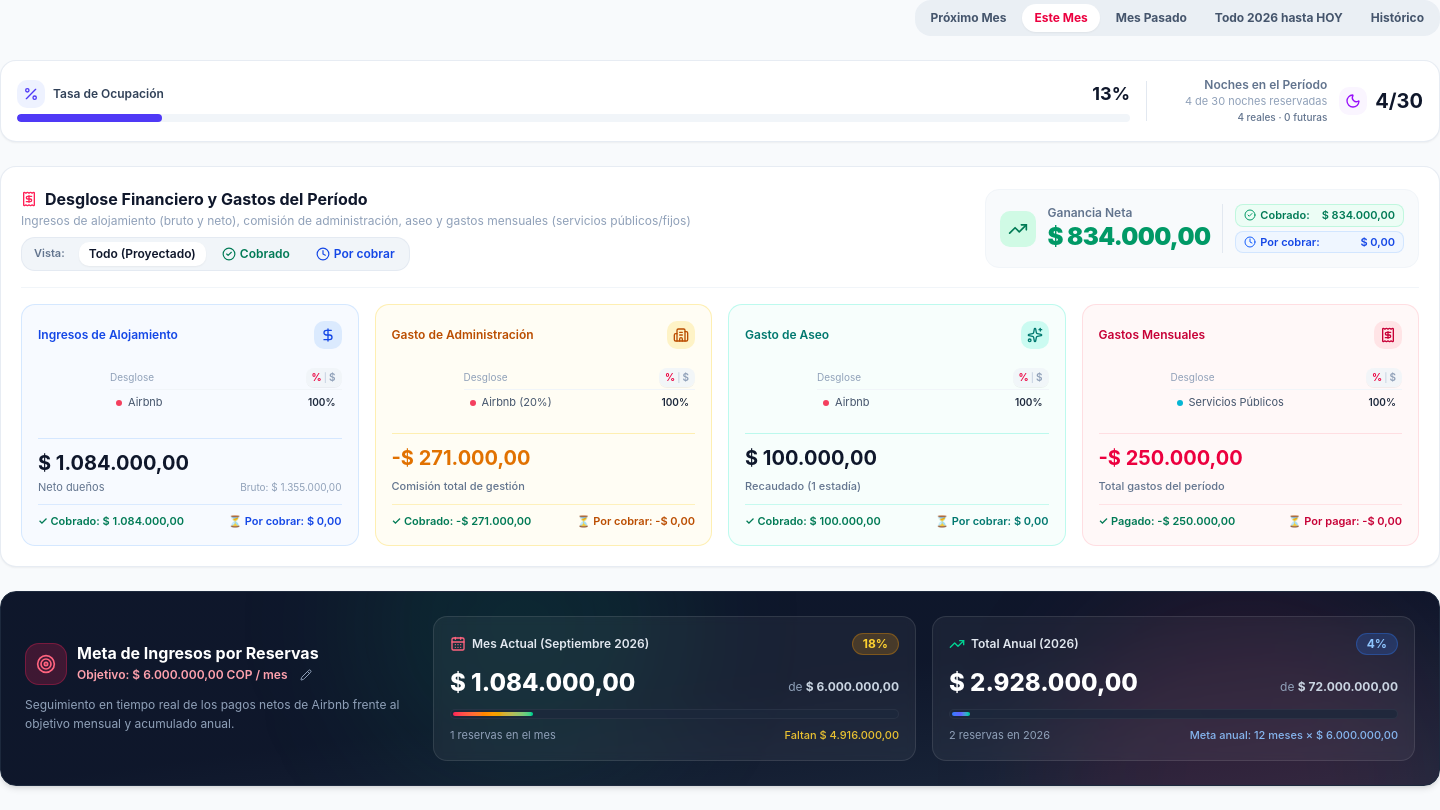
Scenario: Dashboard Component › filters data correctly when switching to "Próximo Mes"
Expected: the text "4/30" is shown, [1375,87,1423,115]
Expected: the text "4 de 30 noches reservadas" is shown, [1185,93,1327,110]
Click "Próximo Mes"
Click the button "Próximo Mes".
click(968, 18)  # box [918,4,1018,32]
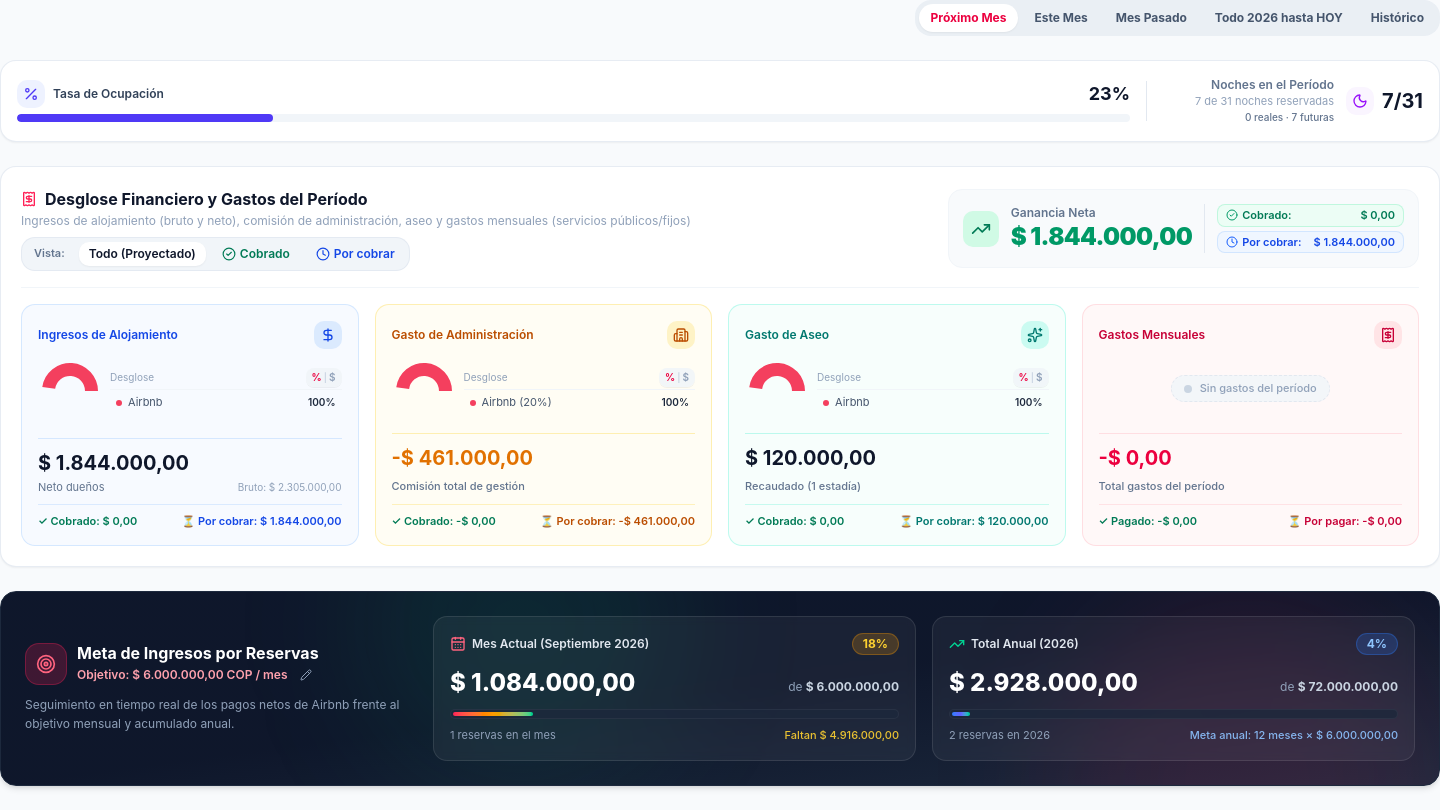
Now the text "7/31" is shown, box [1382,87,1423,115]
Now the text "7 de 31 noches reservadas" is shown, box [1195,93,1334,110]
